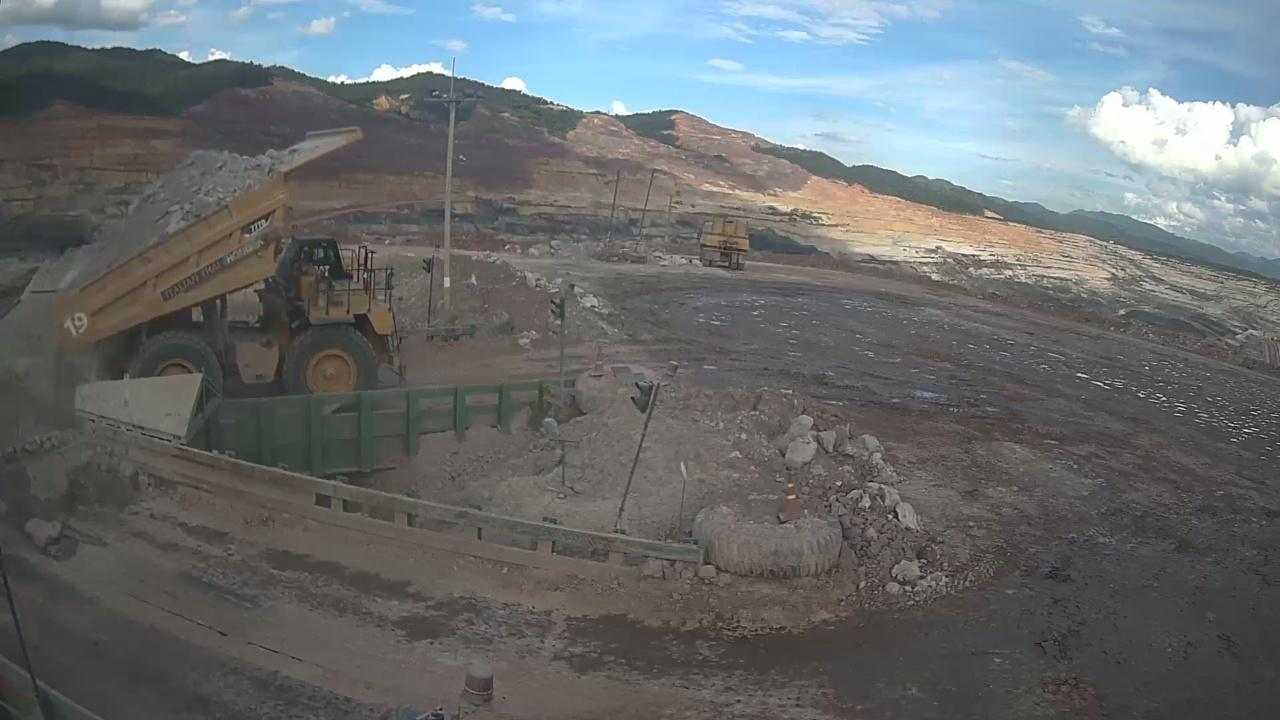dumping_soil: (23, 123, 407, 404)
tail_number: (61, 307, 90, 339)
truck_size: (239, 212, 276, 244)
